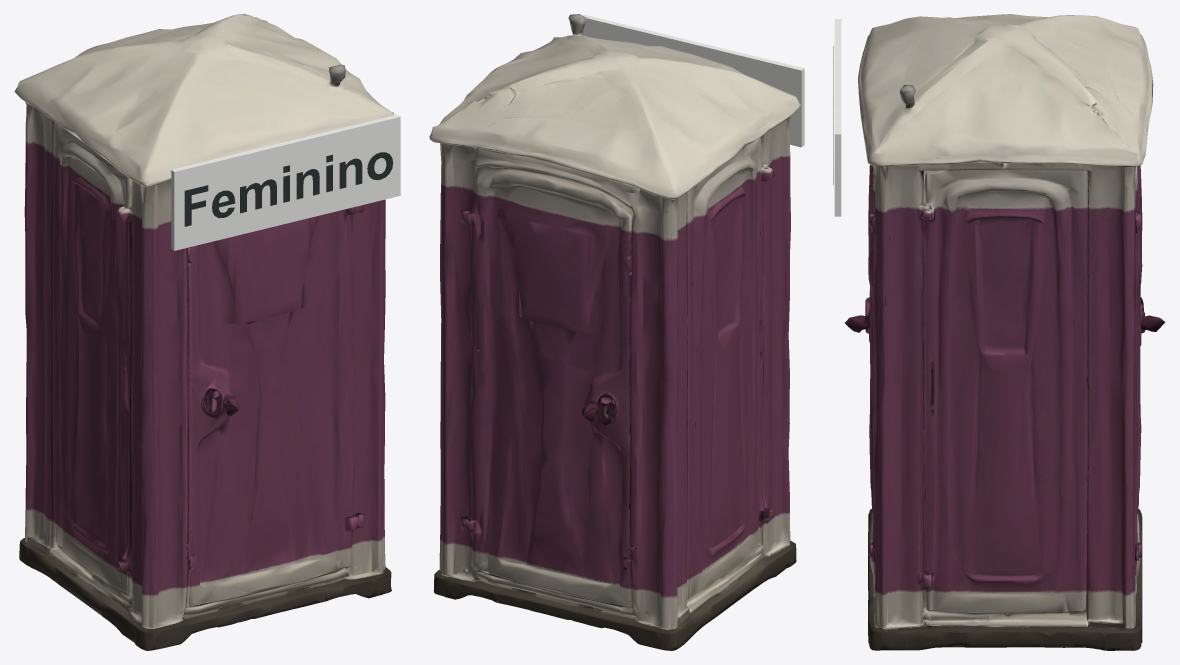
File: toilet-feminino.glb
3 renders of one model, left to right at view 1: azimuth 30°, elevation 25°; view 2: azimuth 150°, elevation 25°; view 3: azimuth 270°, elevation 25°, orthographic. The views are drawn at different scales.
Visible parts, largest first — view 1: tripo_node_60a4deb6-5a27-47ab-872c-550047519718, Readable_Gender_Plate, Gender_Label; view 2: tripo_node_60a4deb6-5a27-47ab-872c-550047519718, Readable_Gender_Plate; view 3: tripo_node_60a4deb6-5a27-47ab-872c-550047519718, Readable_Gender_Plate.
Part boxes in pixels (left/top/right/bottom): tripo_node_60a4deb6-5a27-47ab-872c-550047519718: left=14, top=14, right=394, bottom=650; Readable_Gender_Plate: left=171, top=114, right=400, bottom=250; Gender_Label: left=184, top=152, right=392, bottom=226; tripo_node_60a4deb6-5a27-47ab-872c-550047519718: left=429, top=14, right=801, bottom=650; Readable_Gender_Plate: left=583, top=14, right=804, bottom=147; tripo_node_60a4deb6-5a27-47ab-872c-550047519718: left=845, top=14, right=1165, bottom=650; Readable_Gender_Plate: left=834, top=19, right=841, bottom=216.
Bounding box in the file's own units: 1.2 × 2.3 × 1.24.
3 materials, 1 textured.
